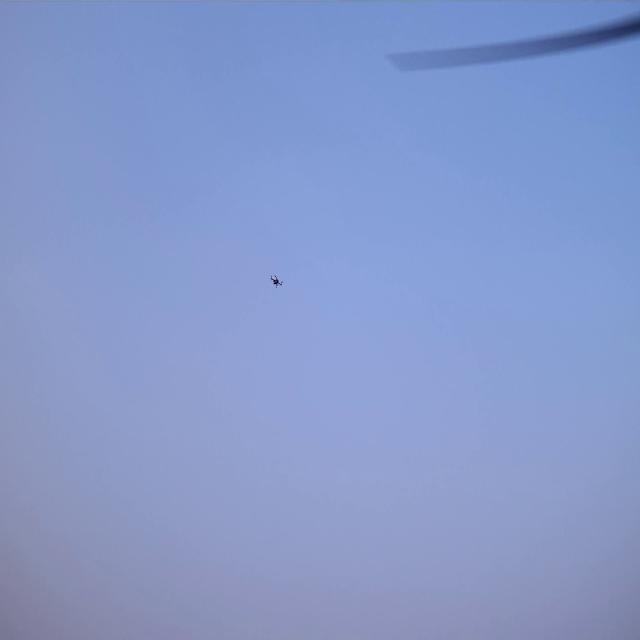UAV: (269, 274, 283, 288)
